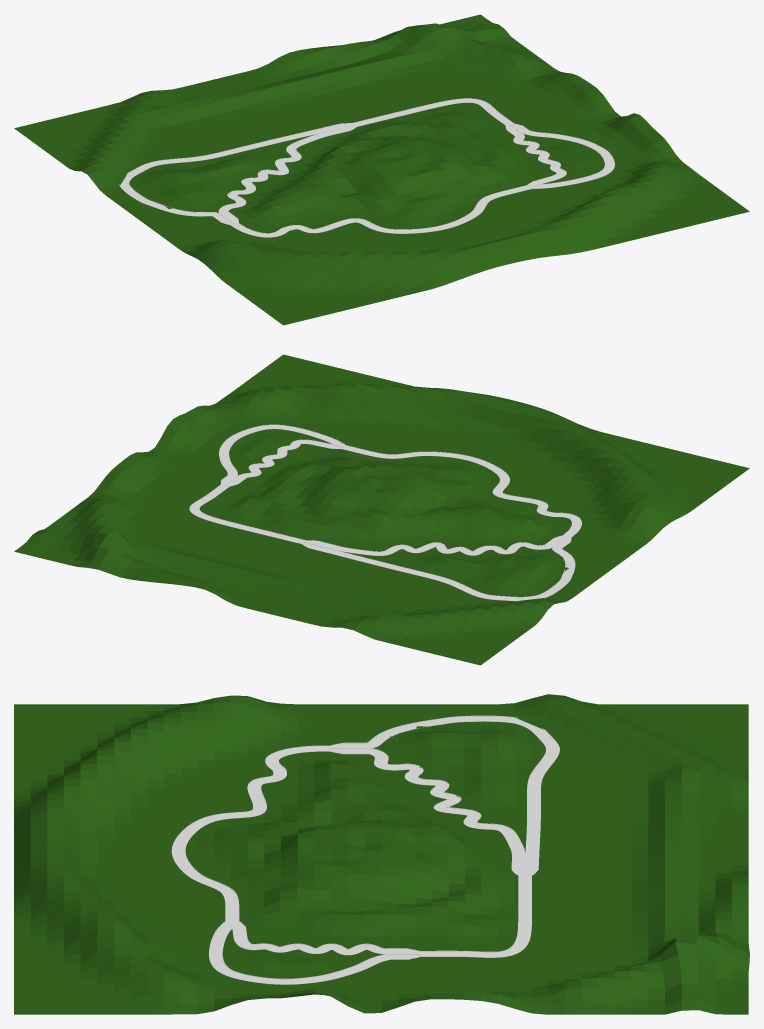
The model's file is Track2a.fbx.
3 views of the same model, one above another, from view 1: azimuth 30°, elevation 25°; view 2: azimuth 150°, elevation 25°; view 3: azimuth 270°, elevation 25° (orthographic). The views are drawn at different scales.
Parts seen in each view (by area): view 1: Plane.001, PlaneTemplate.004, PlaneTemplate.002, PlaneTemplate.003, Route1A, Plane, Route1B; view 2: Plane.001, PlaneTemplate.004, PlaneTemplate.002, PlaneTemplate.003, Route1A, Plane, Route1B; view 3: Plane.001, PlaneTemplate.004, PlaneTemplate.002, PlaneTemplate.003, Route1A, Plane, Route1B.
Boxes of the visible parts, left/top/right/bottom form: Plane.001: left=14, top=14, right=749, bottom=325; PlaneTemplate.004: left=119, top=123, right=345, bottom=222; PlaneTemplate.002: left=230, top=185, right=531, bottom=237; PlaneTemplate.003: left=218, top=127, right=349, bottom=220; Route1A: left=515, top=125, right=614, bottom=188; Plane: left=351, top=98, right=513, bottom=126; Route1B: left=506, top=128, right=566, bottom=184; Plane.001: left=14, top=354, right=749, bottom=665; PlaneTemplate.004: left=308, top=540, right=575, bottom=601; PlaneTemplate.002: left=341, top=445, right=581, bottom=537; PlaneTemplate.003: left=313, top=538, right=561, bottom=555; Route1A: left=219, top=424, right=340, bottom=481; Plane: left=189, top=484, right=306, bottom=544; Route1B: left=230, top=439, right=334, bottom=483; Plane.001: left=14, top=694, right=749, bottom=1014; PlaneTemplate.004: left=343, top=715, right=559, bottom=870; PlaneTemplate.002: left=171, top=745, right=330, bottom=921; PlaneTemplate.003: left=343, top=748, right=525, bottom=869; Route1A: left=209, top=925, right=409, bottom=984; Plane: left=420, top=875, right=531, bottom=957; Route1B: left=232, top=926, right=407, bottom=955.
Size of the model in its own units: 10638 by 475 by 10657.
